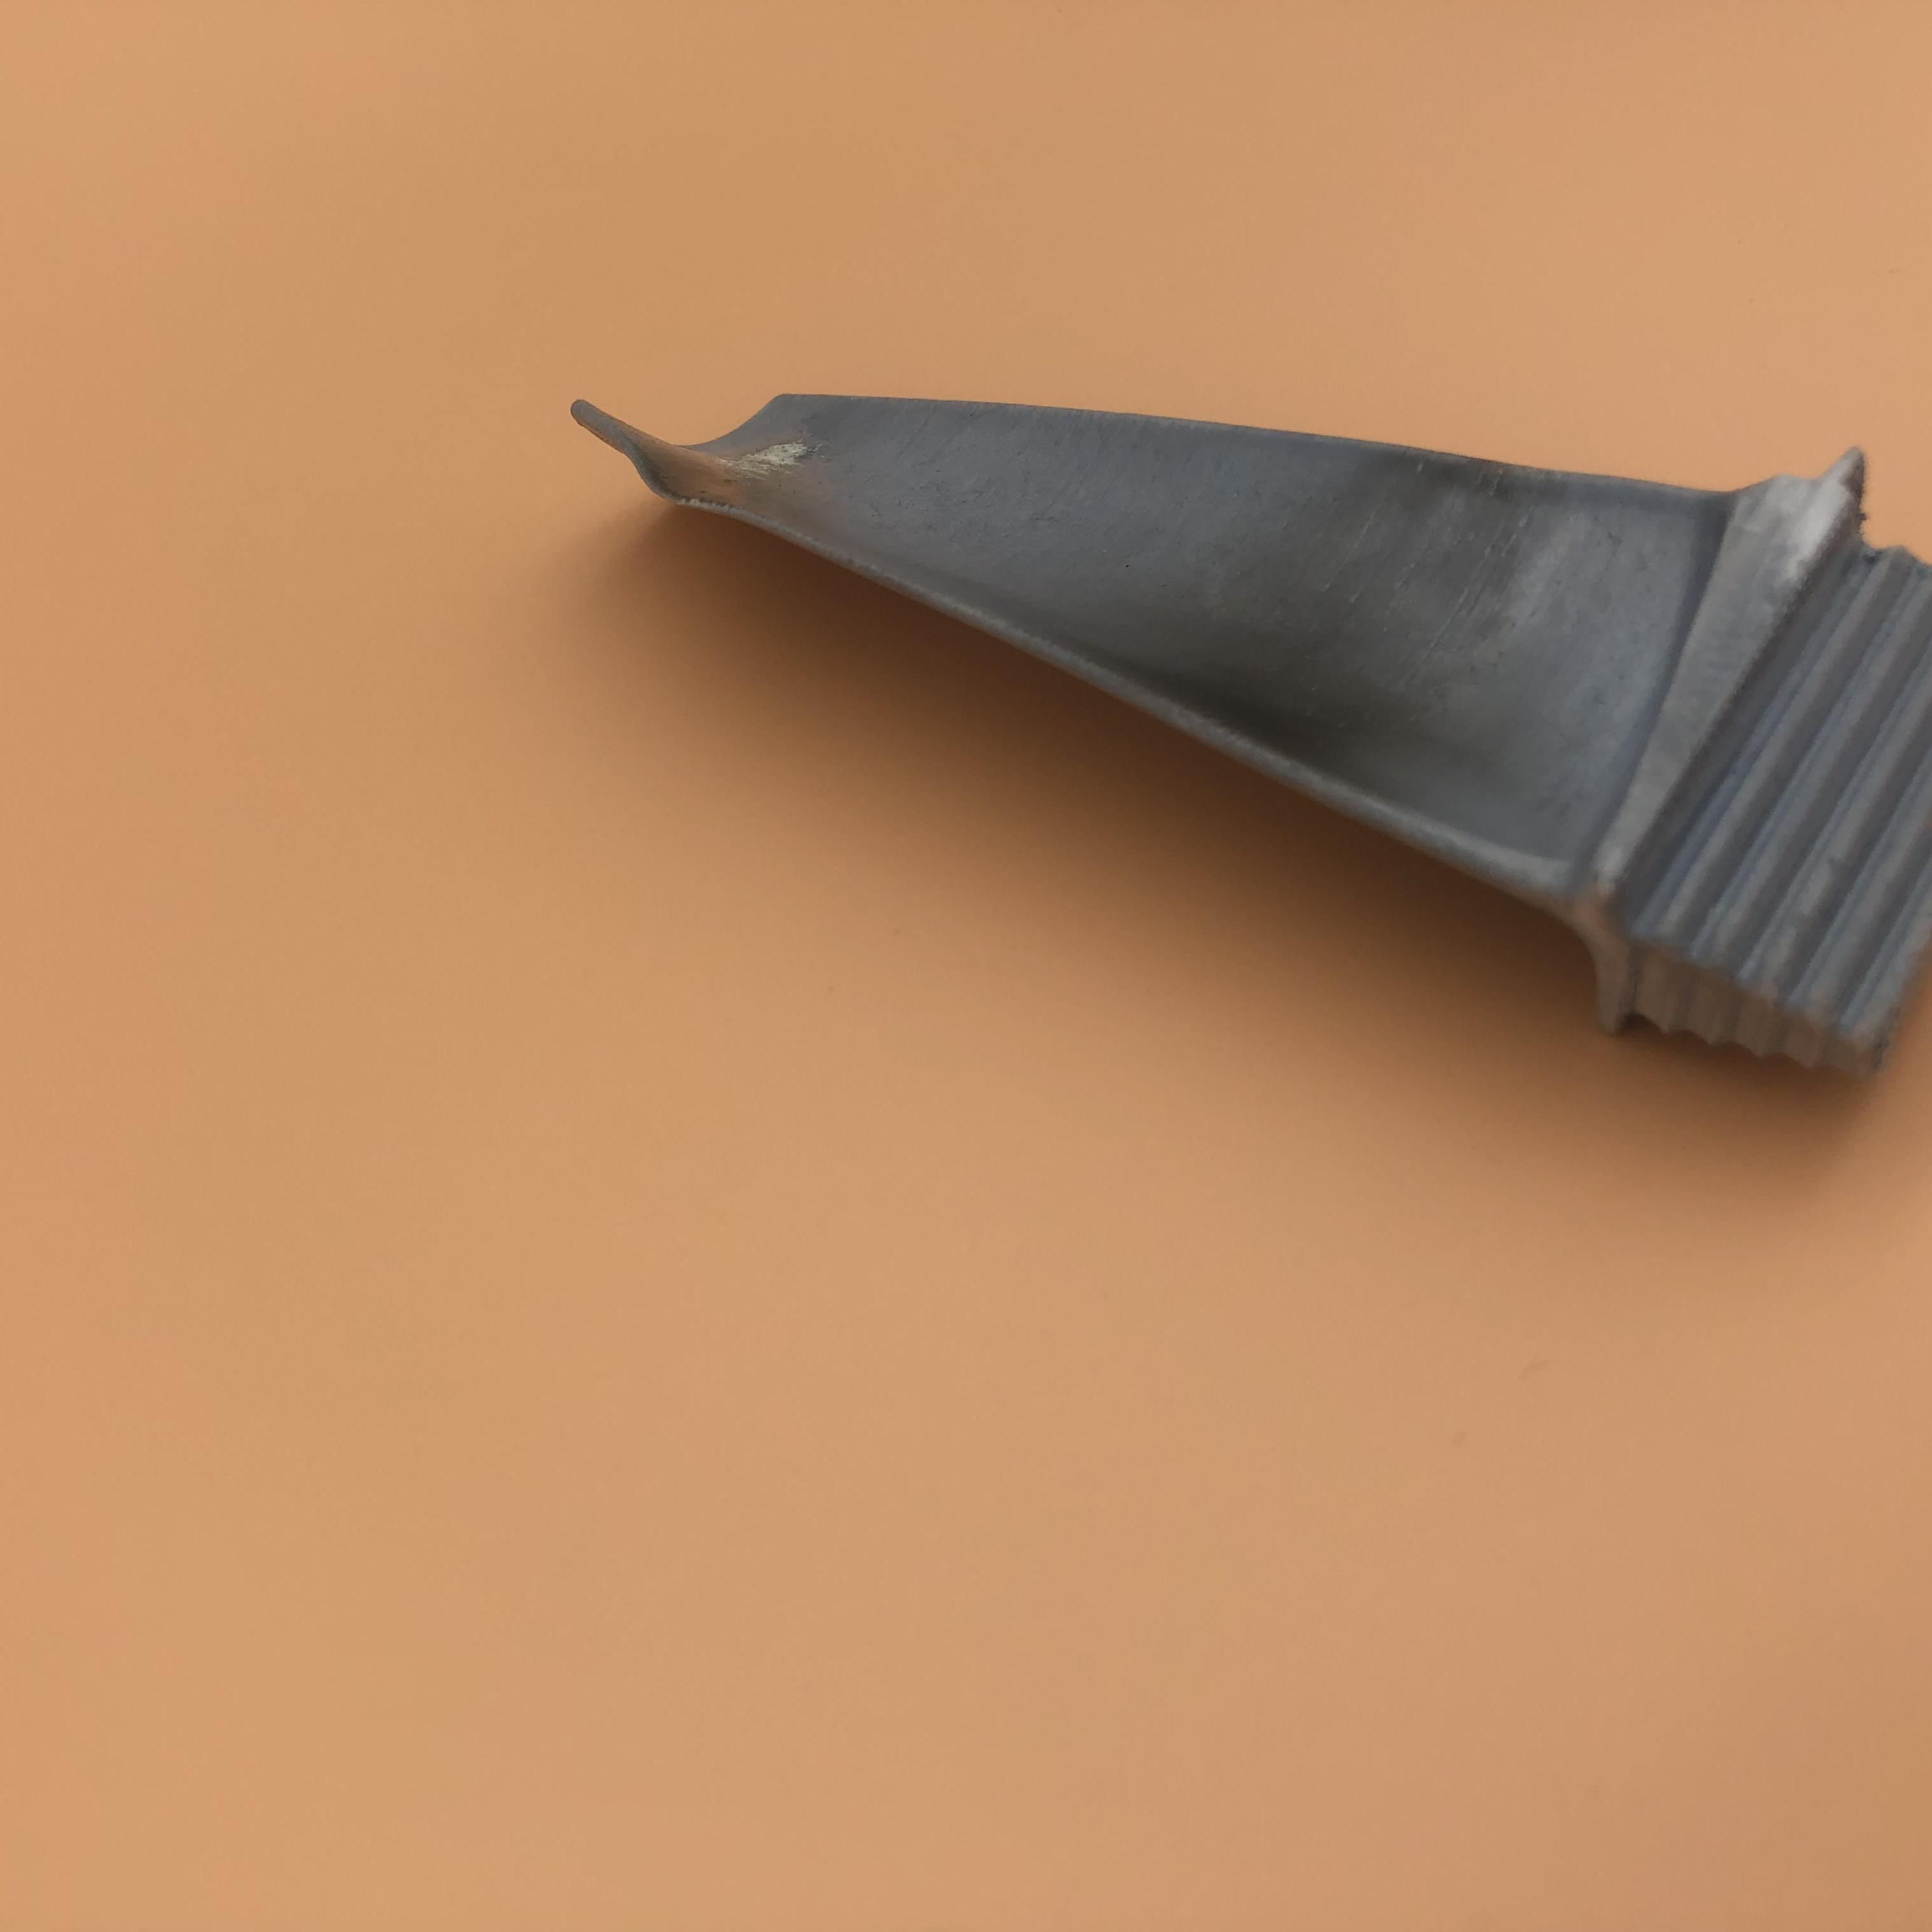ablation: (1192, 455, 1543, 736), (632, 412, 902, 522)
